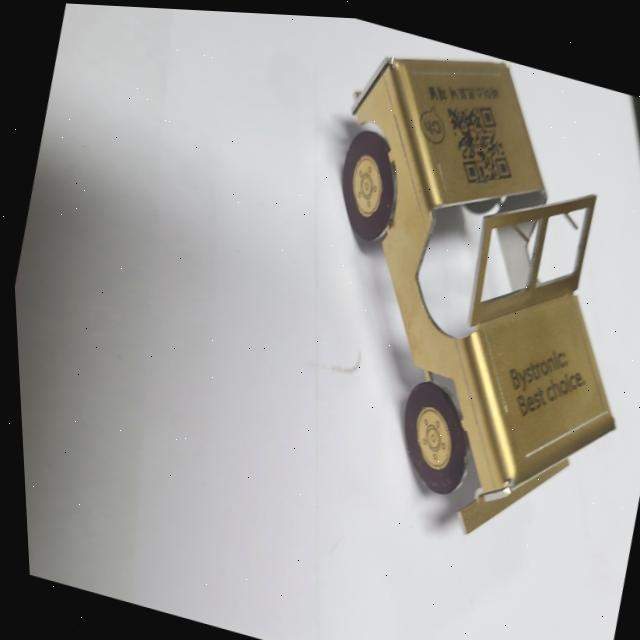tire: (383, 370, 480, 496), (325, 121, 409, 243)
